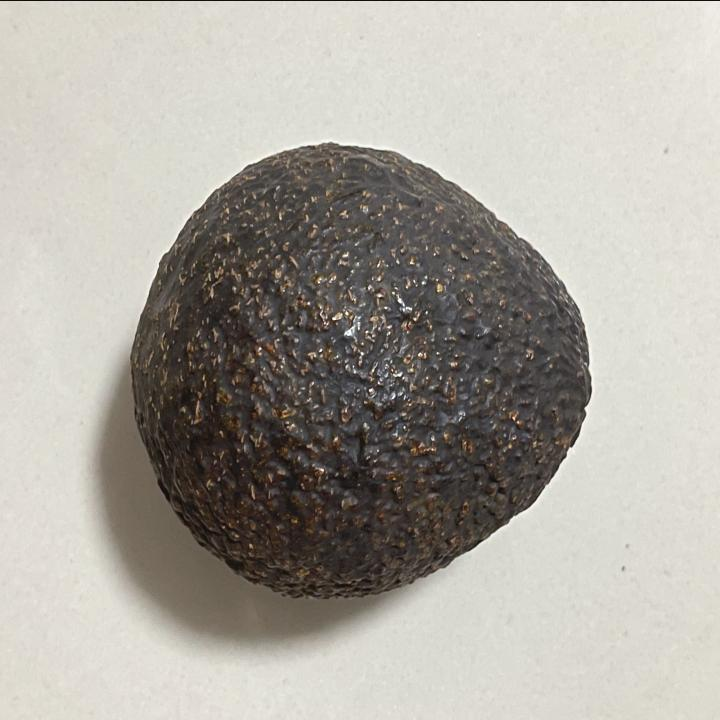Level2: (124, 129, 600, 608)
